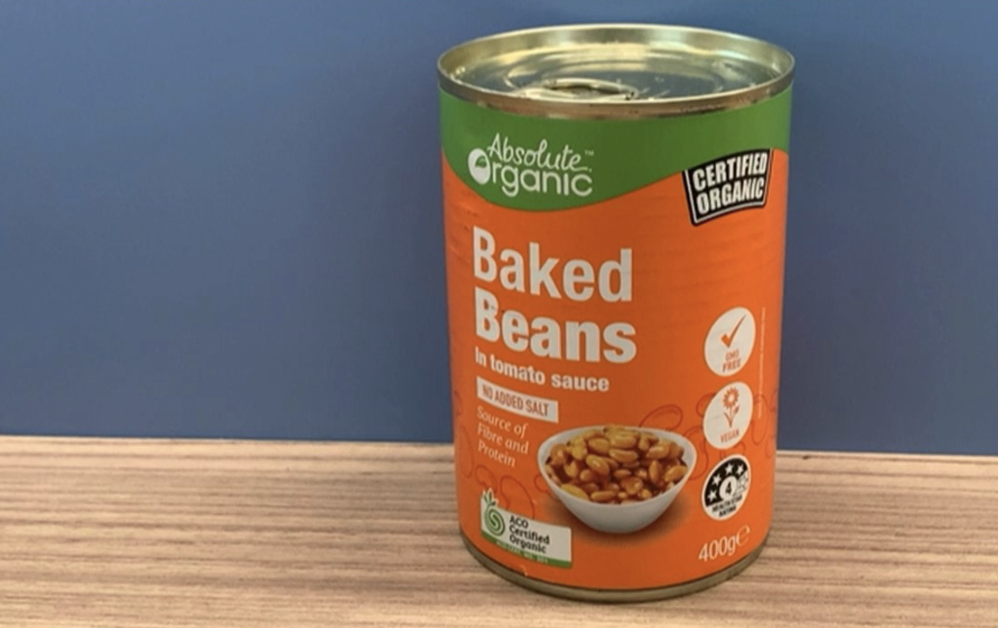Baked beans_400-499g: (451, 115, 770, 566)
